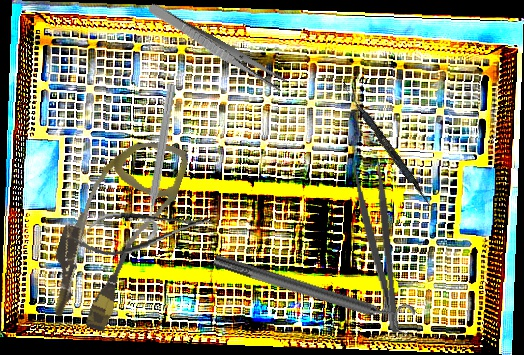Cannula: (36, 121, 192, 341)
Dressing Forceps: (145, 1, 288, 93), (351, 159, 404, 337)
Fixation Ring: (209, 242, 418, 339), (130, 81, 181, 241)
Micro Scissor: (70, 200, 216, 262)
Spatula Surgical: (337, 81, 436, 208)
